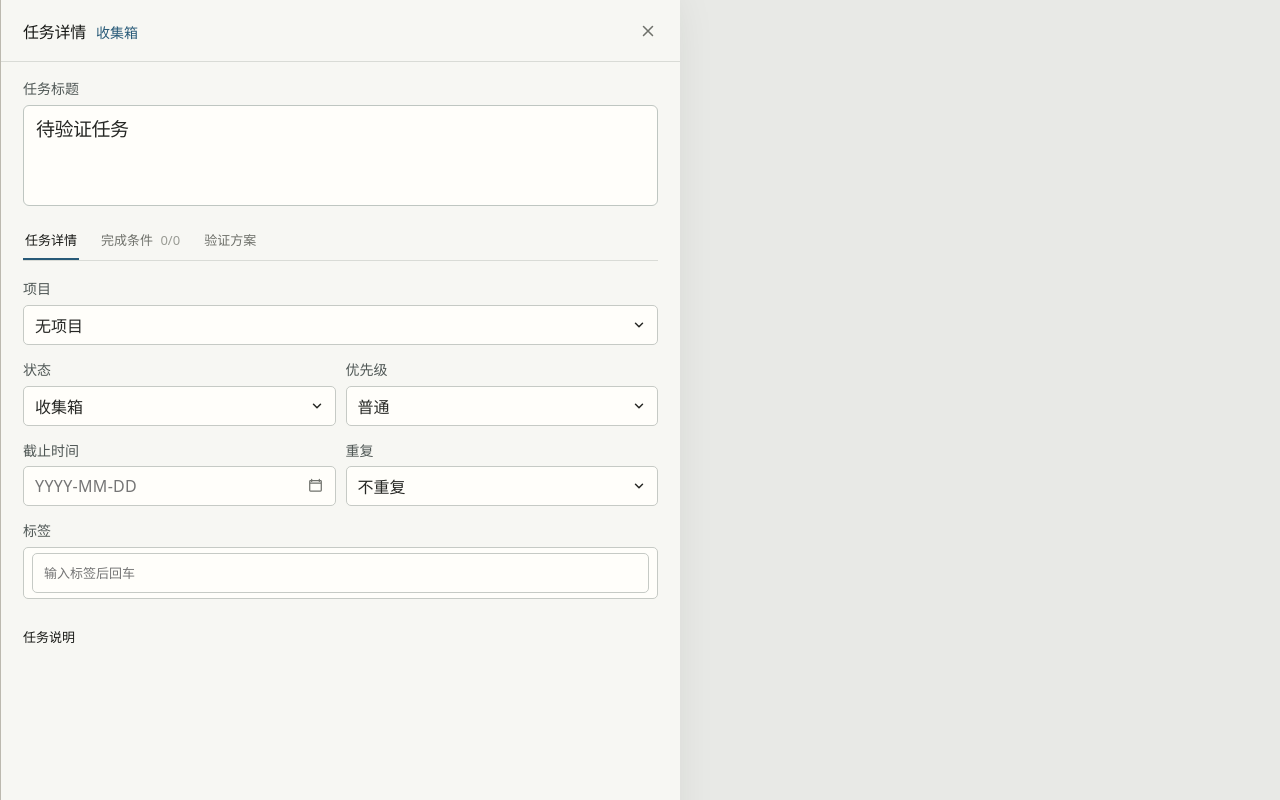
Test: TaskInspector verification tab › defaults to details tab for non-verify tasks and allows switching to verification tab
This screenshot has width=1280, height=800.
// Click verification tab
Click the tab "验证方案" at (230, 241), box [202,222,258,260]
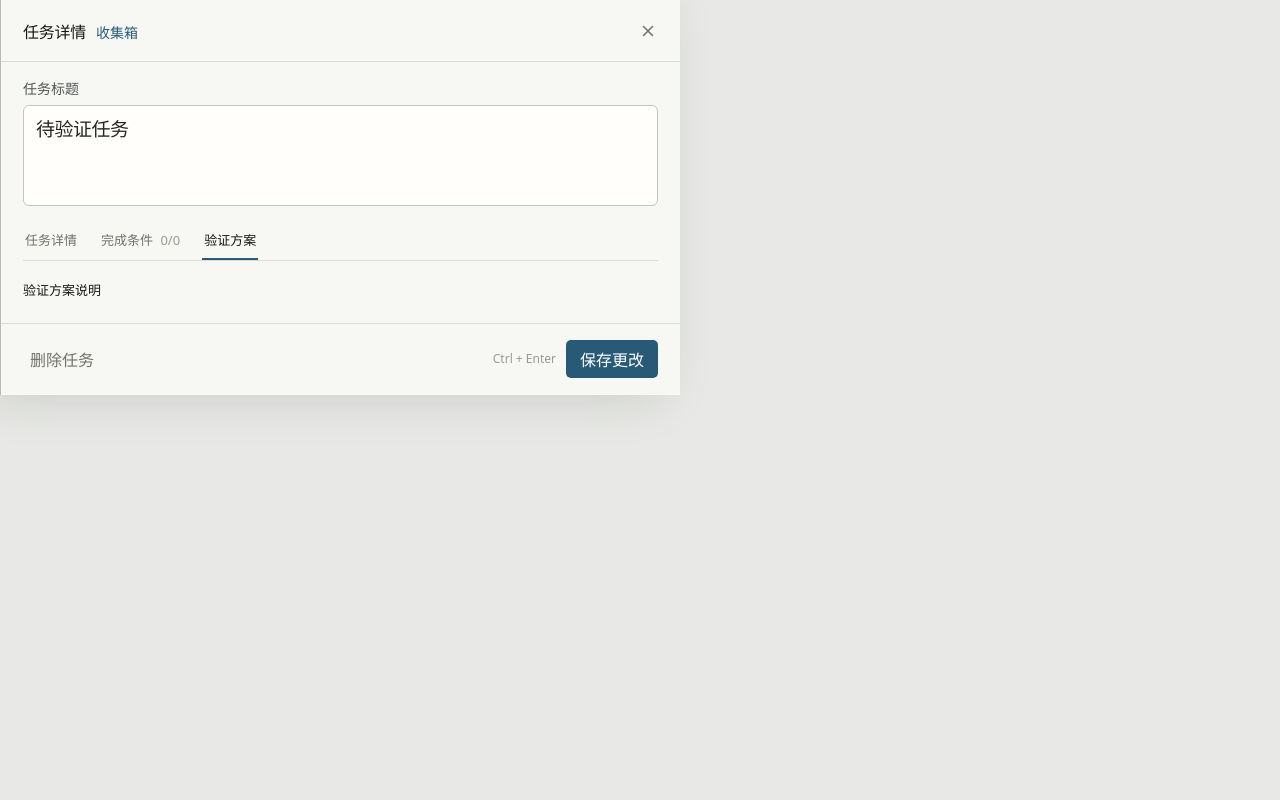
Check: the panel with id "task-verification-panel" is shown, box [1,276,680,323]
